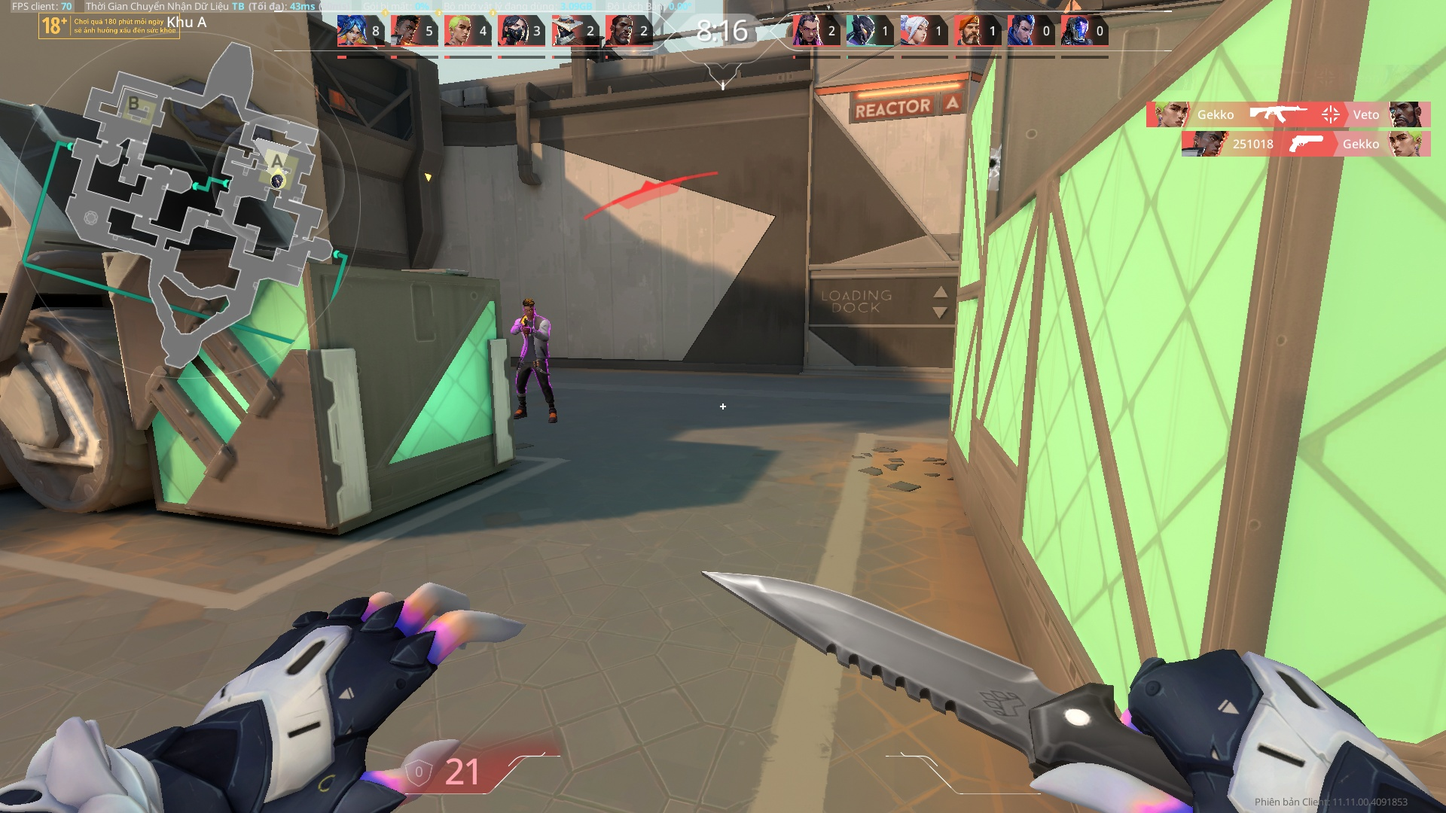body: (517, 312, 552, 354)
head: (521, 293, 535, 314)
